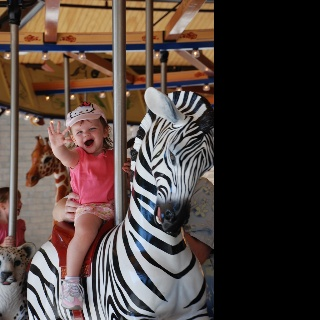without_mask: (70, 119, 103, 153)
